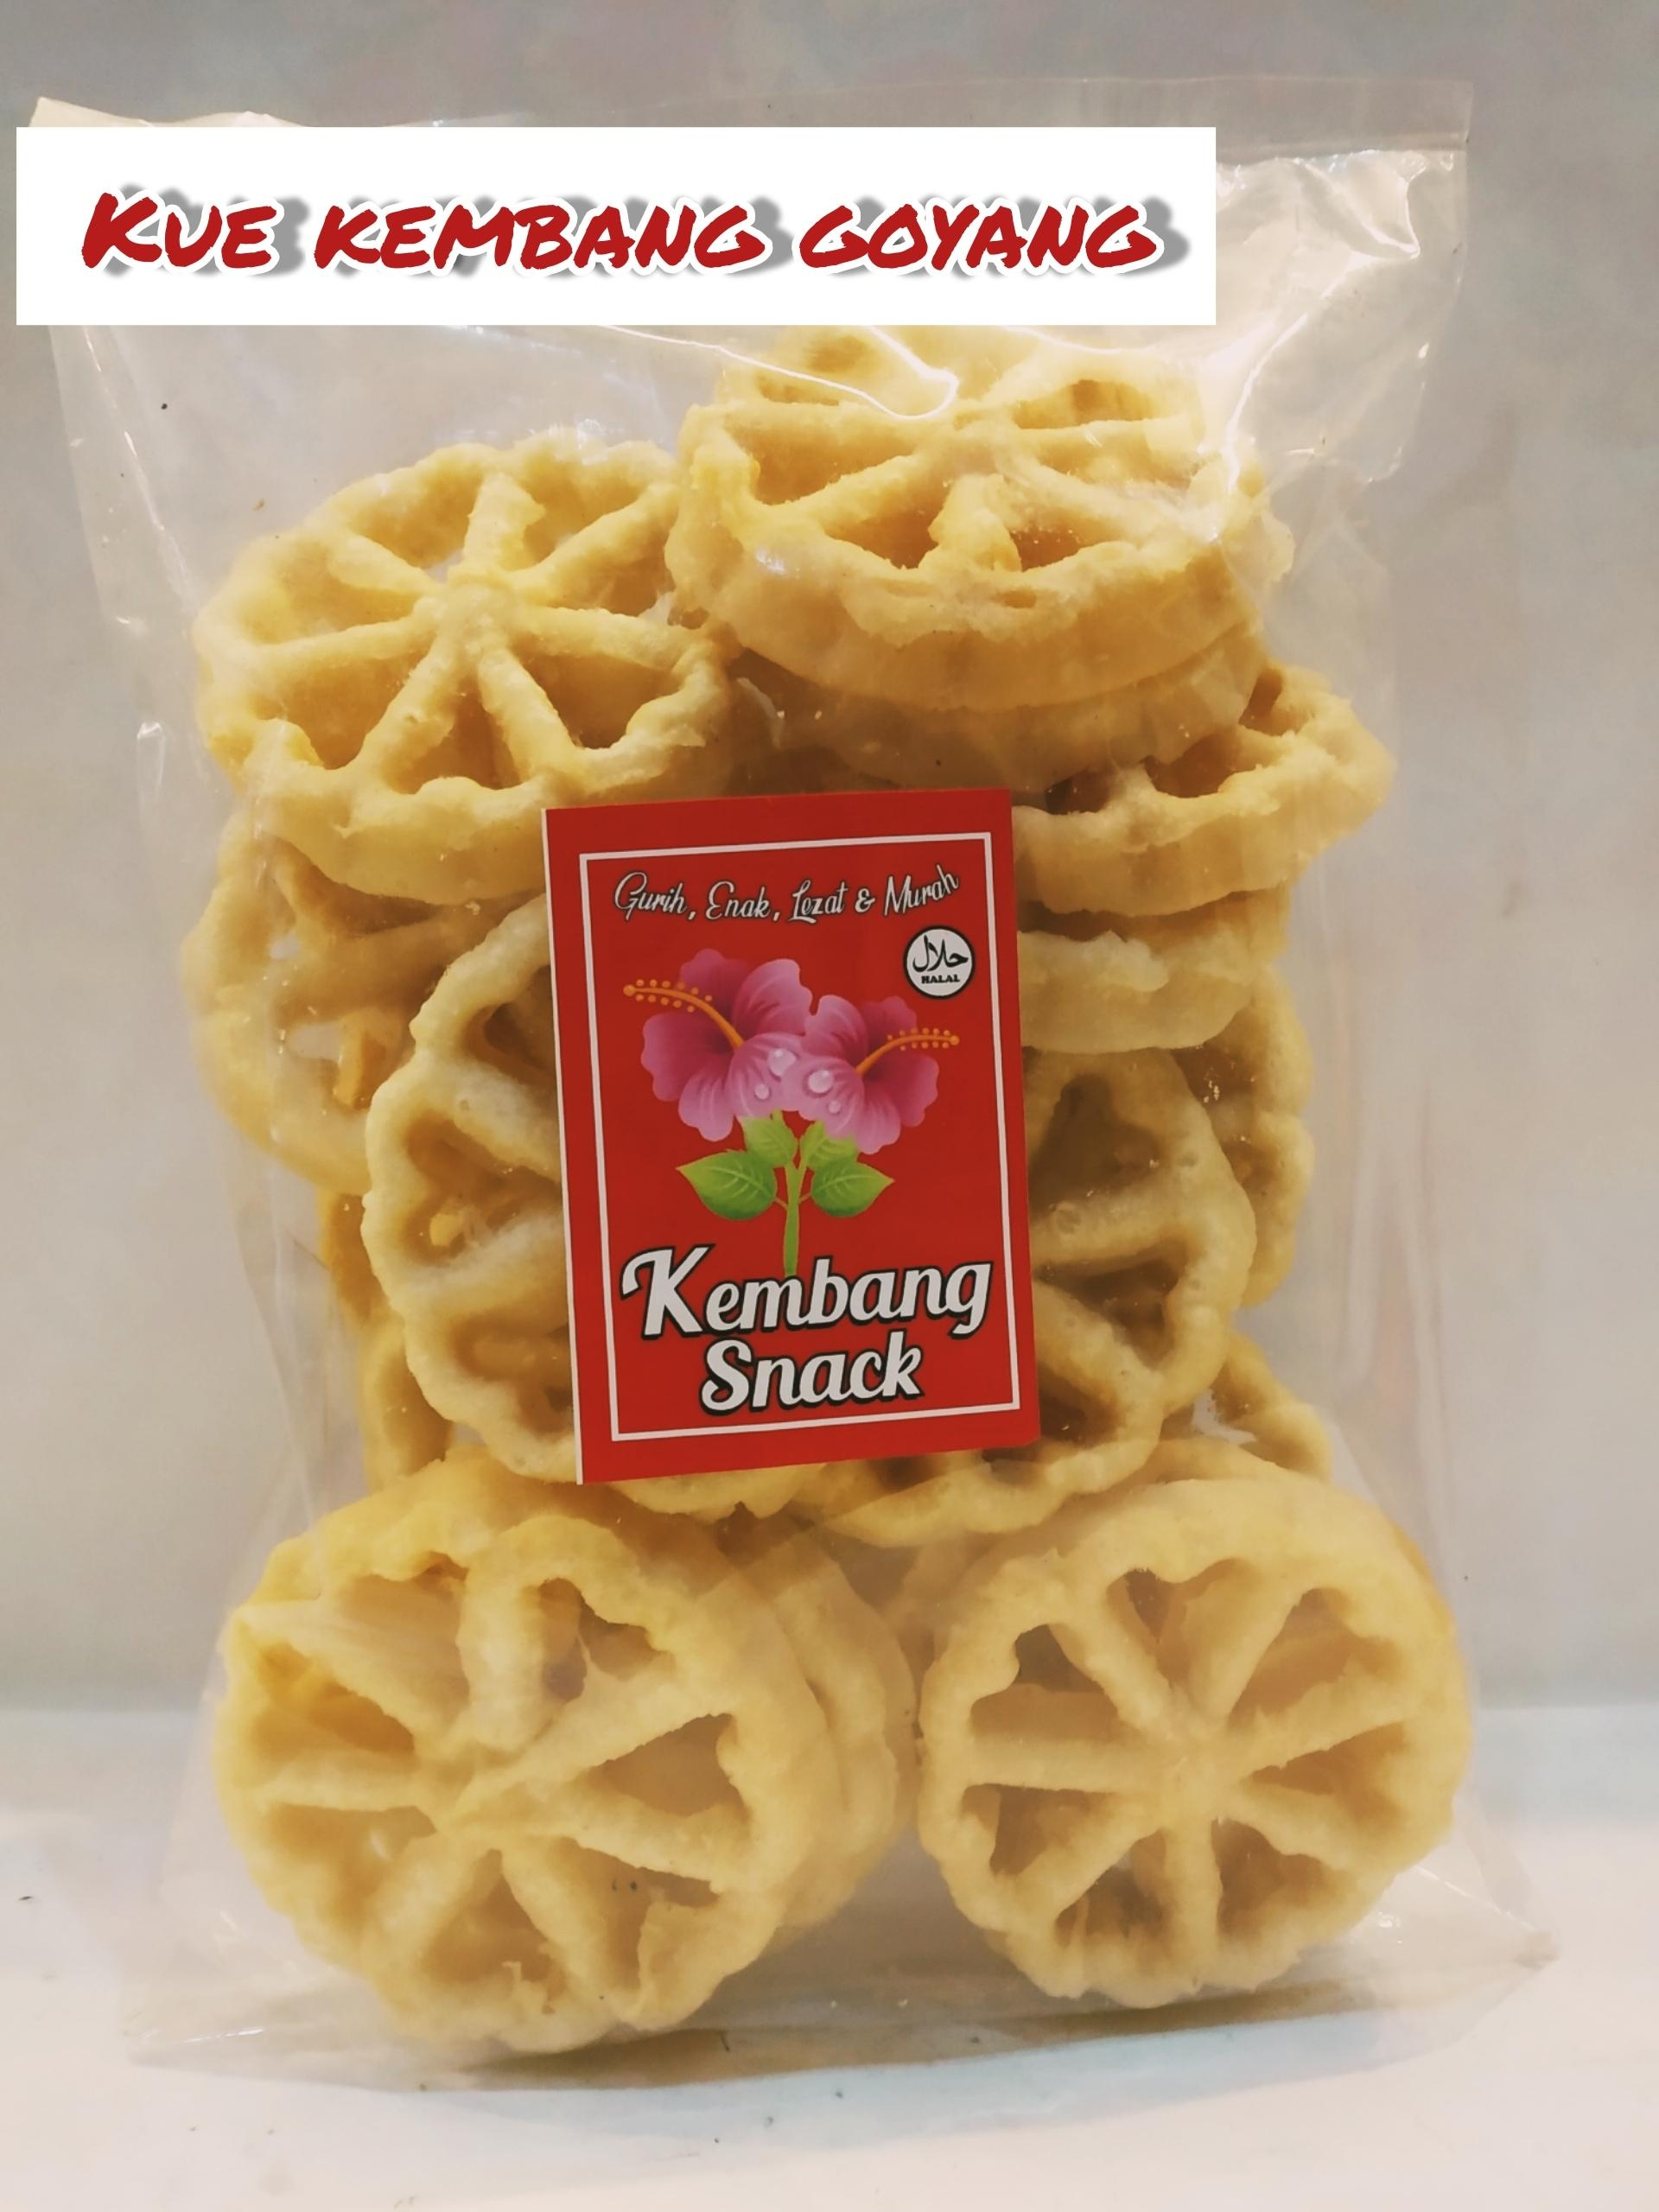kembang_goyang: (166, 1437, 779, 2083), (896, 1486, 1476, 2008)
